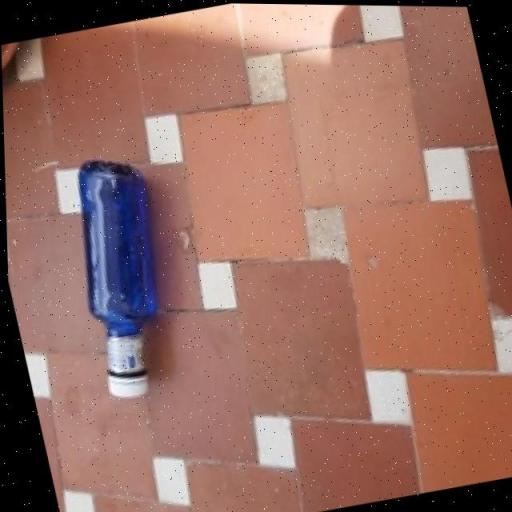plastic: (77, 159, 159, 398)
